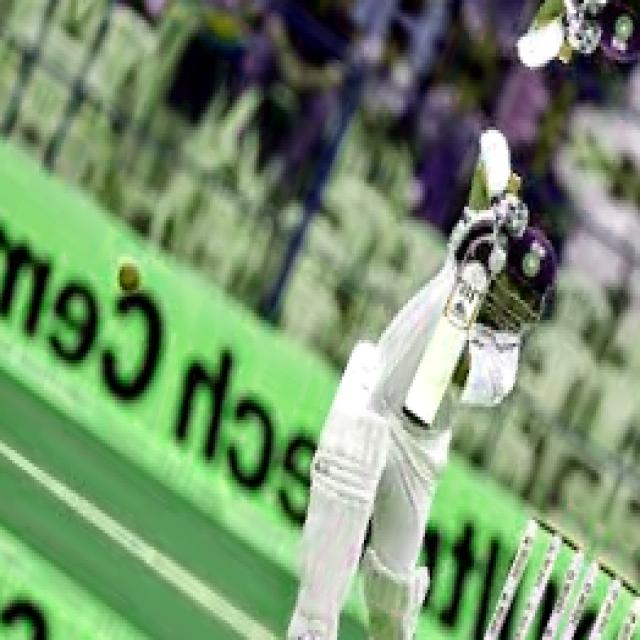bat: (407, 260, 489, 430)
